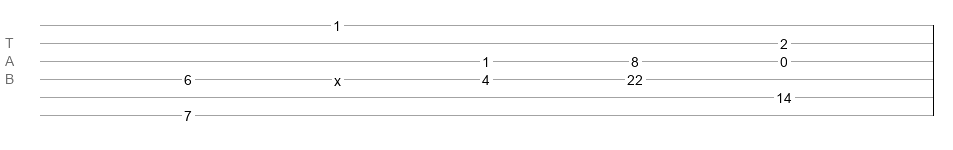0: (780, 54, 788, 64)
1: (333, 18, 341, 28), (482, 54, 490, 64)
14: (776, 90, 792, 100)
2: (780, 36, 788, 46)
22: (627, 72, 643, 82)
4: (482, 72, 490, 82)
6: (184, 72, 192, 82)
7: (184, 108, 192, 118)
8: (631, 54, 639, 64)
x: (334, 73, 341, 81)
